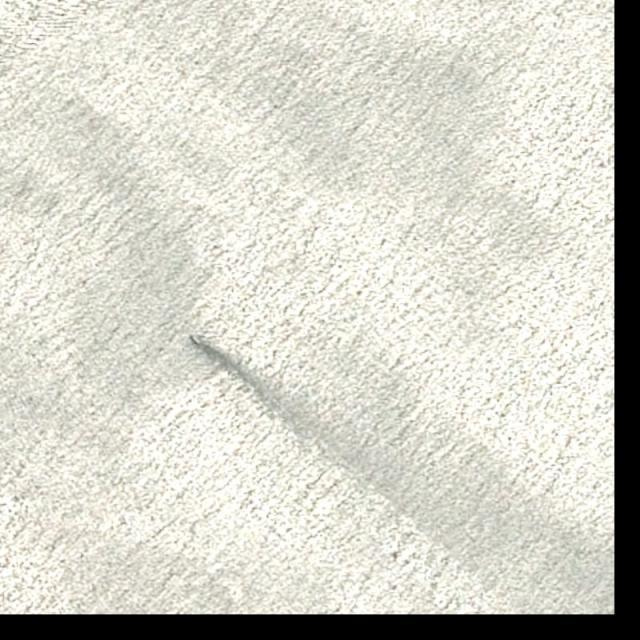ship: (189, 334, 202, 346)
